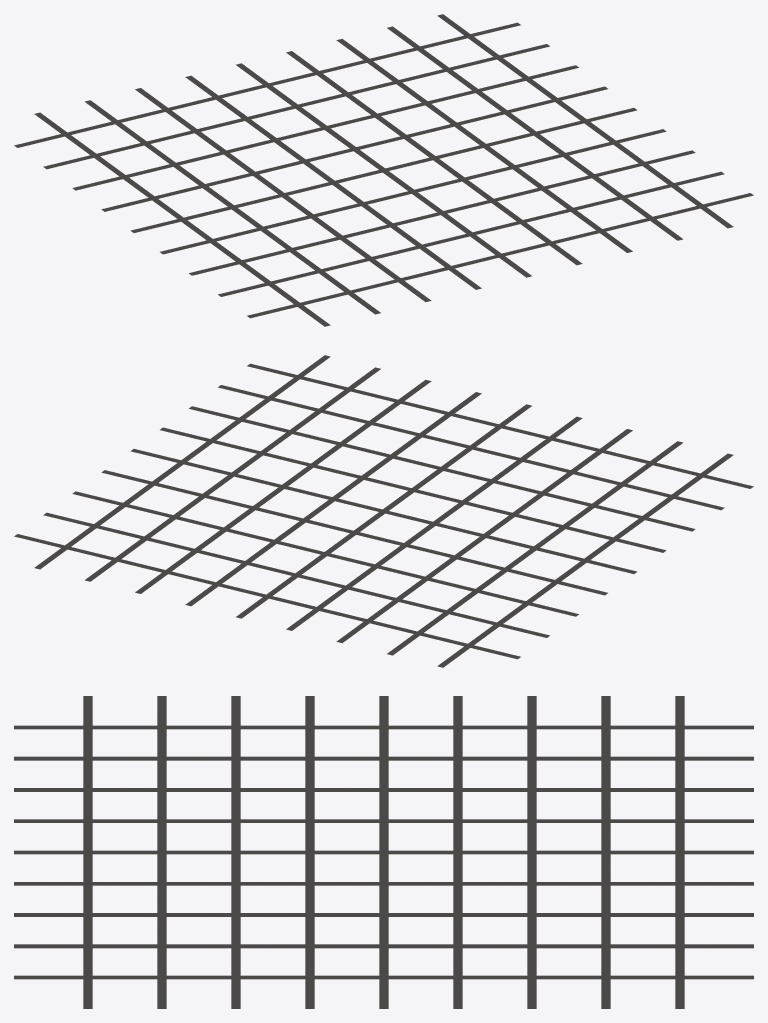
Rendered from residential_dense_scene.obj.
The picture shows the model from 3 angles, top to bottom: view 1: azimuth 30°, elevation 25°; view 2: azimuth 150°, elevation 25°; view 3: azimuth 270°, elevation 25°; orthographic projection. The views are drawn at different scales.
Visible parts, largest first — view 1: residential_dense_scene; view 2: residential_dense_scene; view 3: residential_dense_scene.
Boxes of the visible parts, x1,y1,x2,y2 form: residential_dense_scene: (14, 14, 753, 326); residential_dense_scene: (14, 355, 753, 667); residential_dense_scene: (14, 696, 753, 1008).
Size of the model in its own units: 2300 by 0 by 2300.
1 material, 1 textured.
